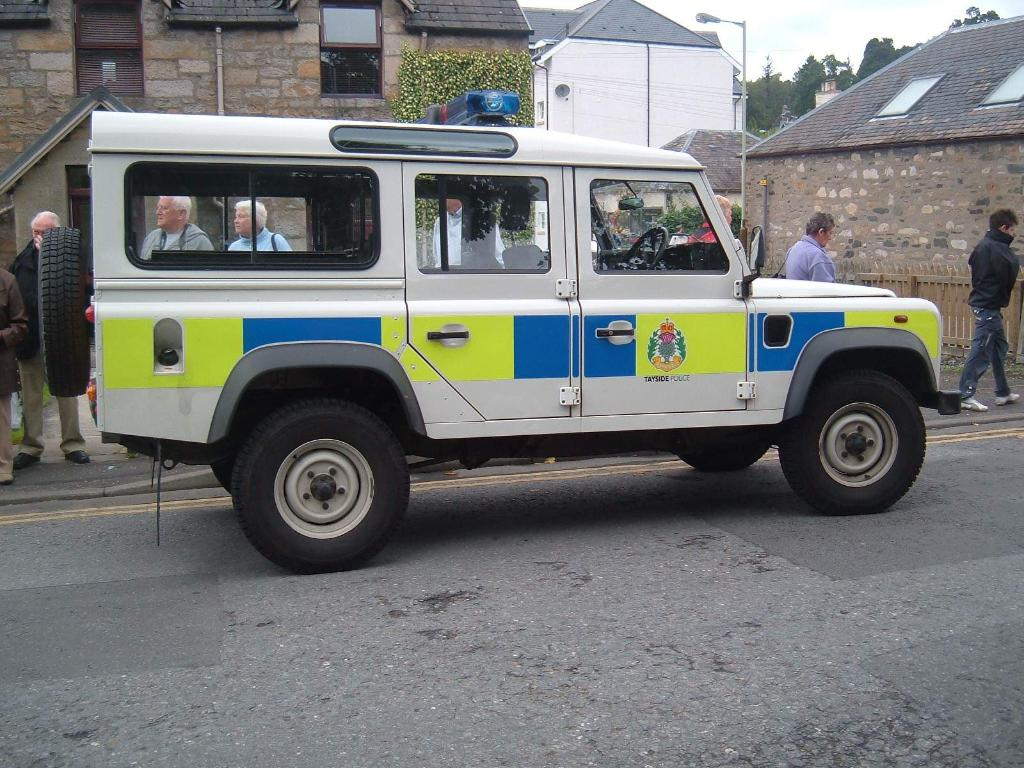Car: (37, 92, 960, 571)
